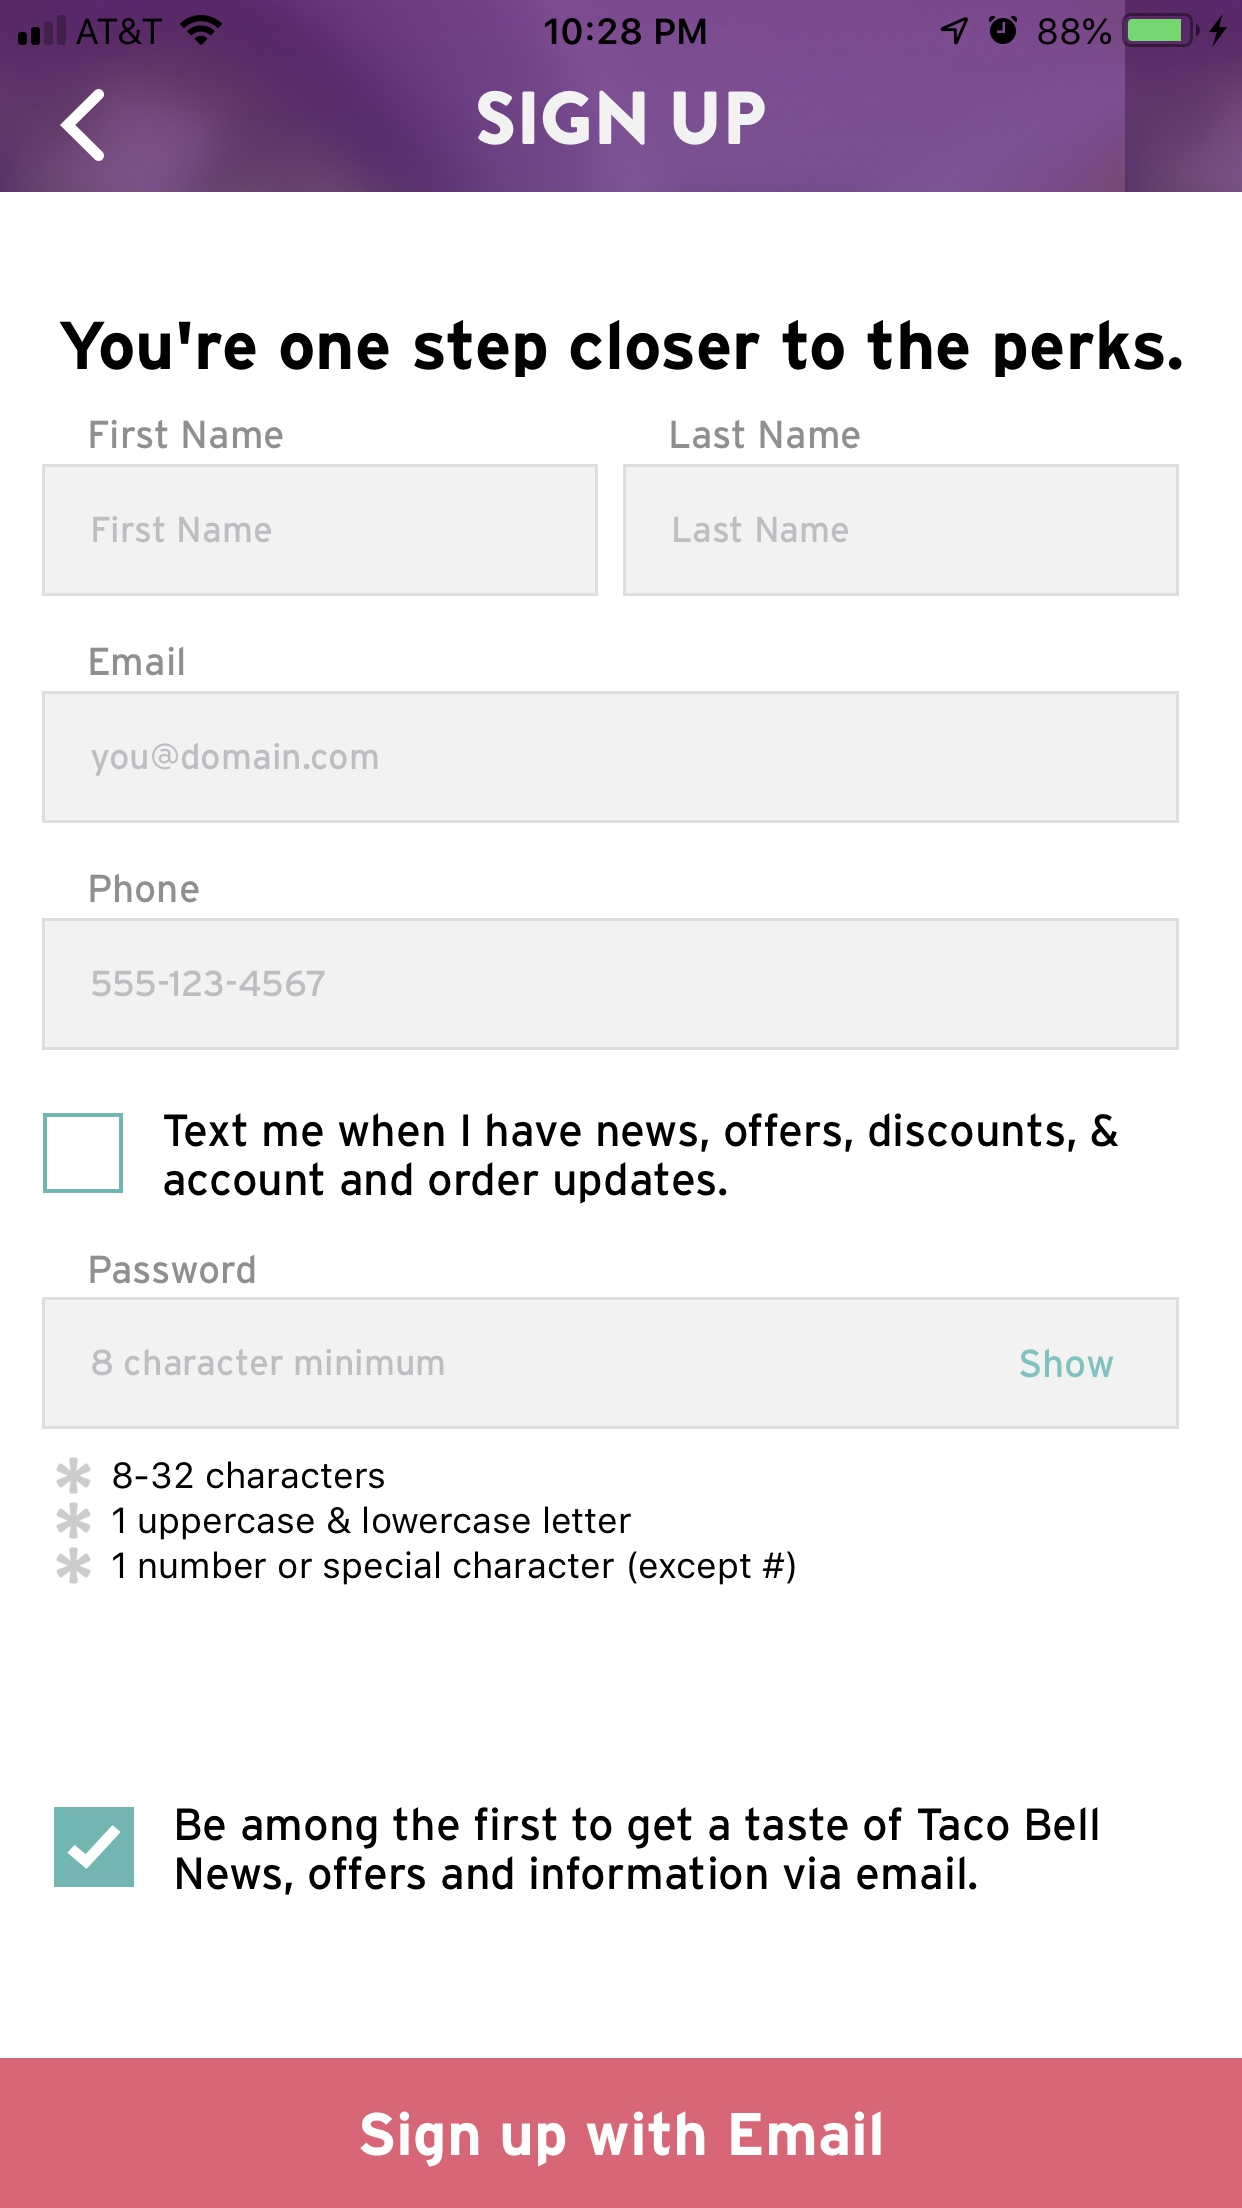CheckedTextView: (42, 1113, 1119, 1206), (55, 1806, 1099, 1896)
EditText: (42, 1298, 1178, 1430), (42, 692, 1178, 823), (42, 919, 1178, 1051), (623, 464, 1178, 597), (42, 466, 599, 597)
Icon: (61, 89, 106, 162)
Text: (162, 1113, 1119, 1206), (177, 1806, 1099, 1896), (61, 320, 1183, 379), (114, 1551, 796, 1586), (114, 1507, 632, 1541), (478, 89, 767, 147), (93, 743, 379, 776), (93, 1350, 444, 1375), (114, 1460, 385, 1491), (93, 971, 326, 998), (89, 420, 284, 450), (670, 420, 861, 450), (673, 516, 849, 544), (89, 1254, 256, 1284), (93, 517, 271, 544), (89, 873, 200, 904), (91, 648, 185, 676), (1021, 1350, 1115, 1378)
TextButton: (2, 2058, 1242, 2208)
UpperTaskBar: (2, 2, 1242, 49)
